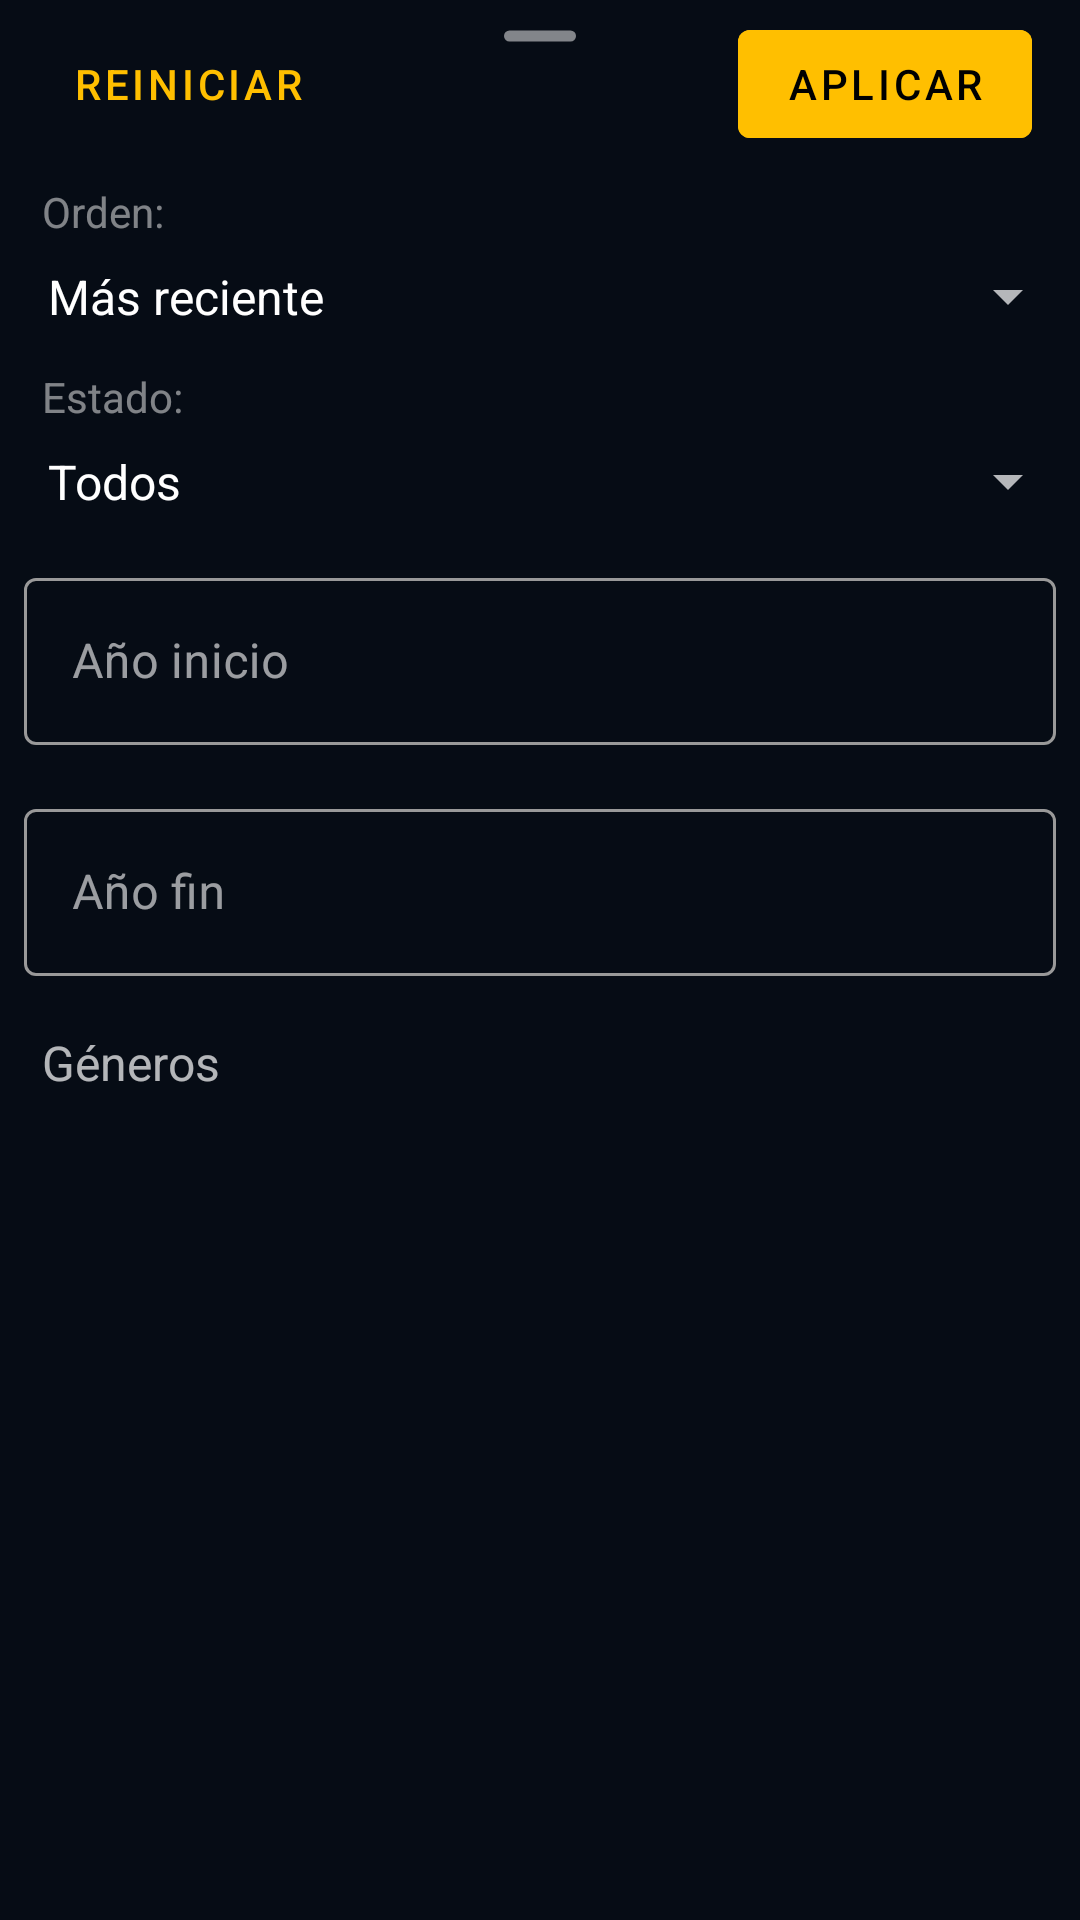

Point at icon controls on the screen. Image size 1080px x 1920px, points as [x,y].
Pull bar: [540,36]
